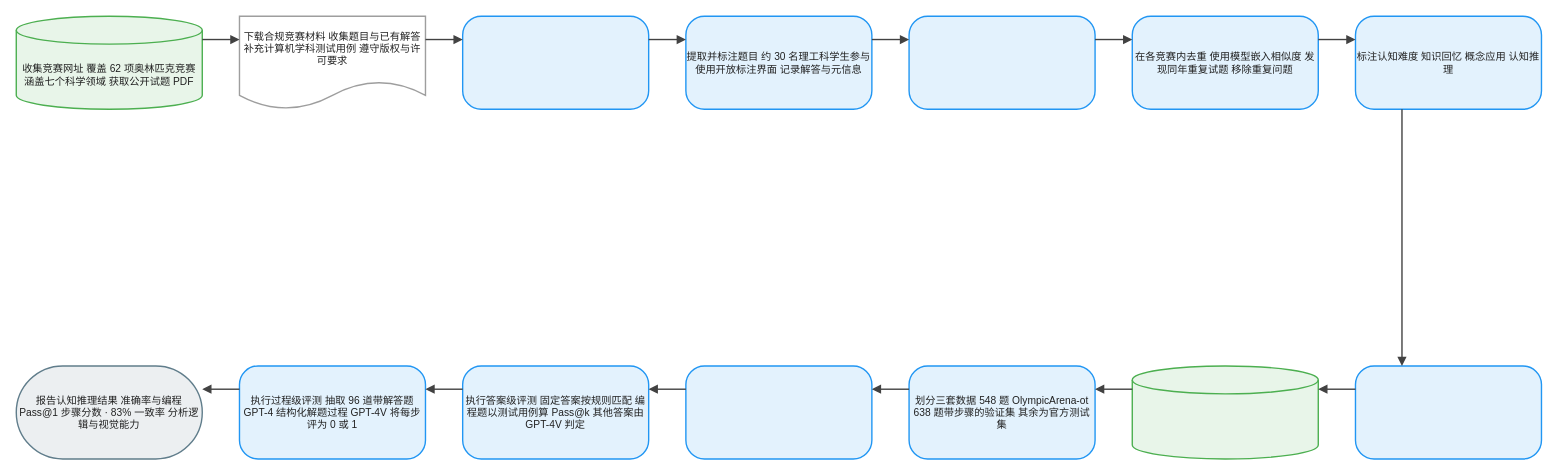
This 1559x476 diagram has some shape labels left out. The centre of each missing label's shape, as x and y in pixels:
"使用 Mathpix 转换 PDF 生成 Markdown 保留图文交错内容 准备模型可用输入" goes at pixel 555 62.
"发布 OlympicArena 11,163 题 · 7 个领域 7,571 张图 · 13 种答案 7,904 题带解答" goes at pixel 1225 412.
"执行多步质量验证 检查初始标注 修正多模态提取错误 核验发布元信息" goes at pixel 1001 62.
"标注推理能力 八类逻辑能力 五类视觉能力 GPT-4V 标注并人工核验" goes at pixel 1448 412.
"运行三种零样本设置 图文交错多模态 图像描述替代 纯文本基线" goes at pixel 778 412.
